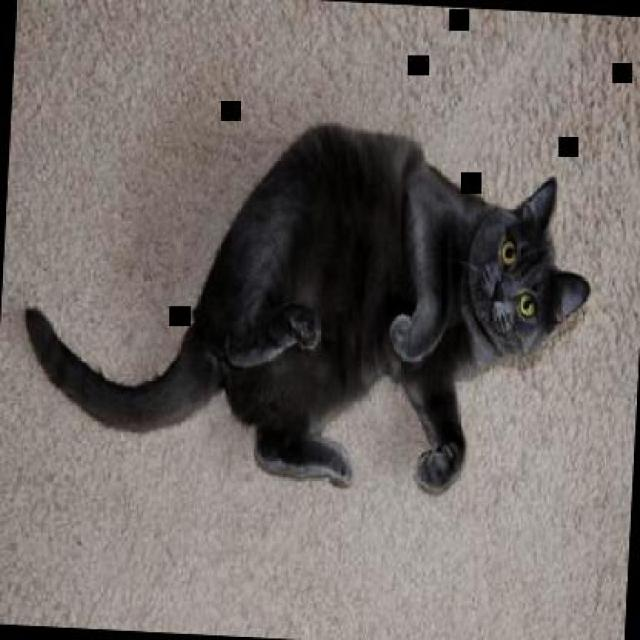cat: (14, 111, 597, 497)
